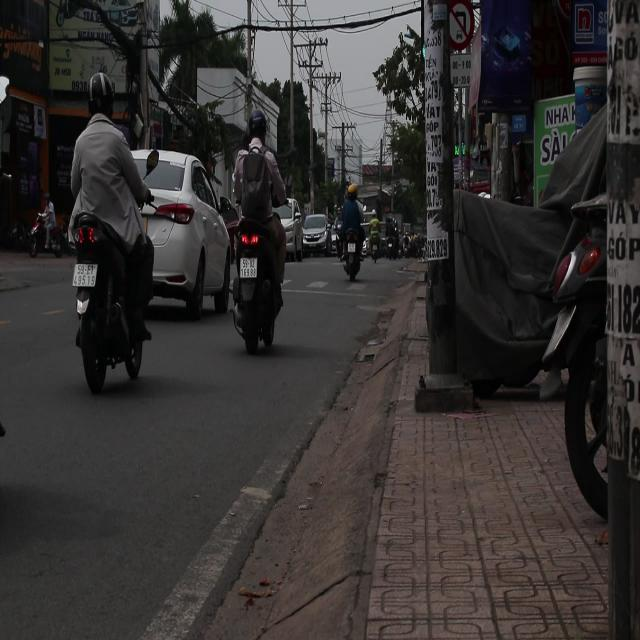car: (137, 151, 231, 318), (278, 196, 304, 264), (300, 213, 329, 256)
motorbike: (71, 209, 148, 391), (222, 207, 285, 355), (336, 218, 366, 284)
